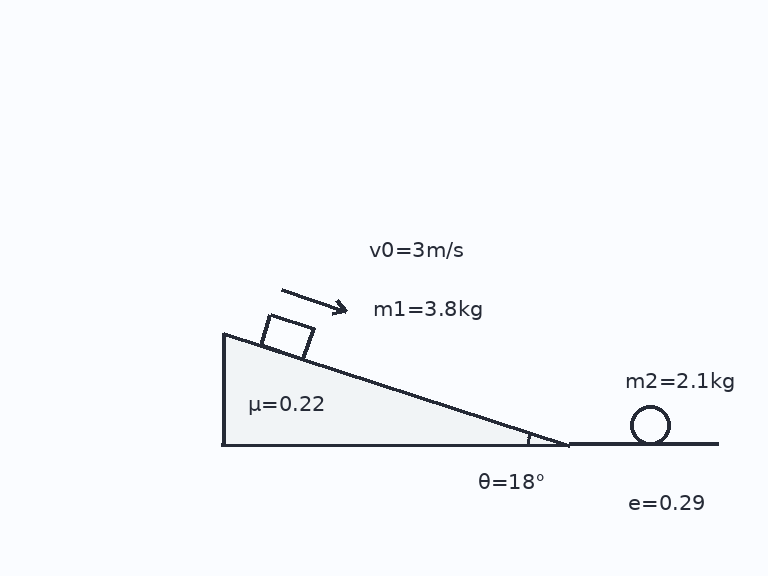ball: (628, 403, 672, 447)
block: (259, 312, 314, 361)
ramp: (221, 331, 570, 447)
